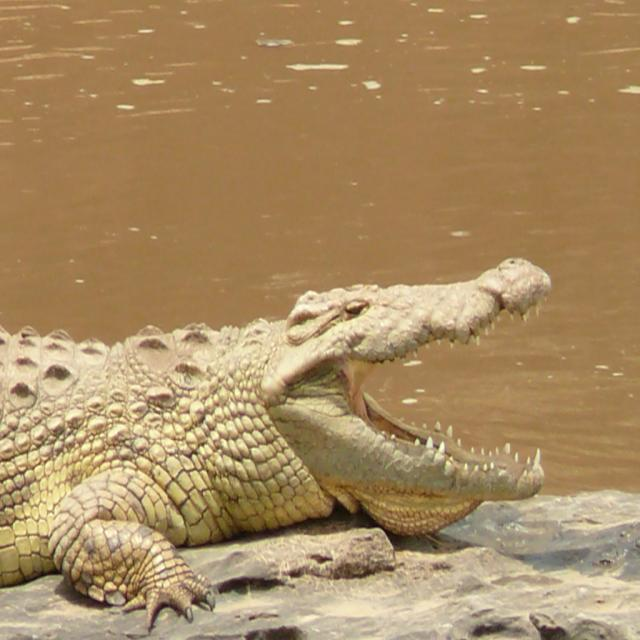crocodile: (3, 255, 553, 609)
